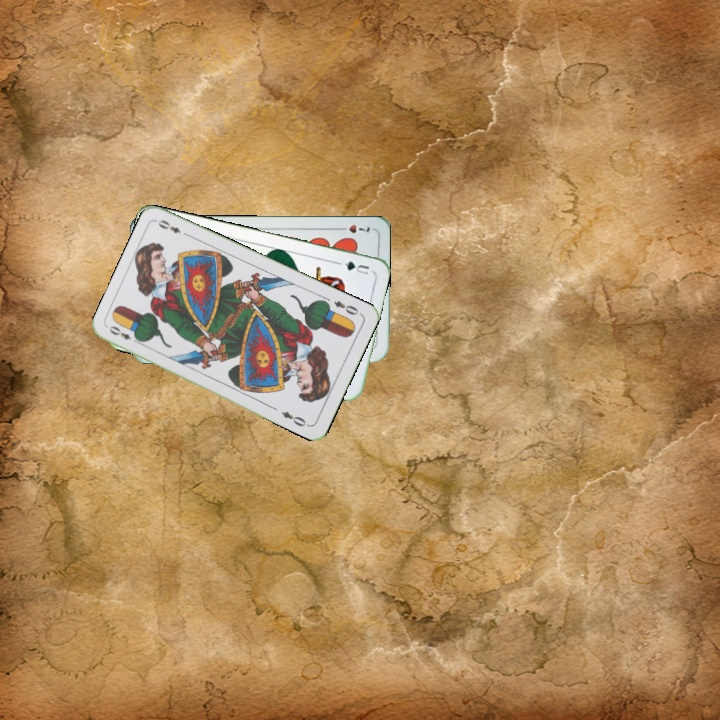EO: (105, 322, 143, 347), (330, 296, 361, 318)
GU: (334, 257, 372, 277)
H7: (333, 220, 372, 236)
